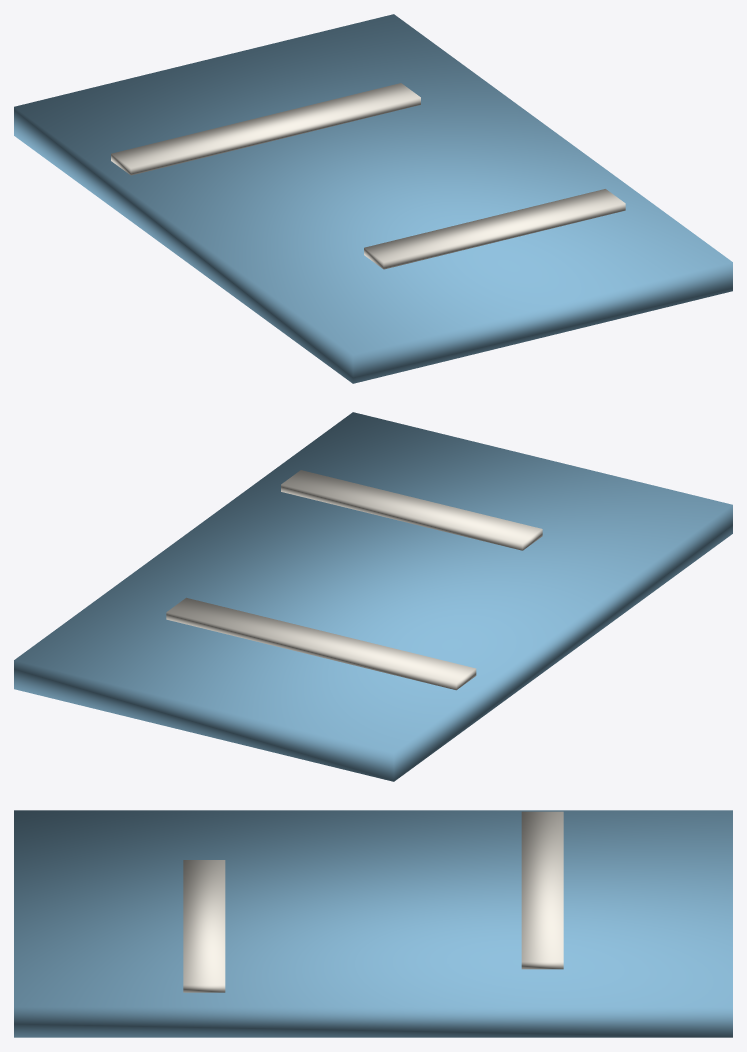
The model's file is river_bg.glb.
3 views of the same model, one above another, from view 1: azimuth 30°, elevation 25°; view 2: azimuth 150°, elevation 25°; view 3: azimuth 270°, elevation 25° (orthographic). The views are drawn at different scales.
Visible parts, largest first — view 1: water_body, ripple1, ripple2; view 2: water_body, ripple1, ripple2; view 3: water_body, ripple1, ripple2.
Boxes of the visible parts, bbox=[...] form: water_body: bbox=[14, 14, 732, 383]; ripple1: bbox=[111, 83, 420, 175]; ripple2: bbox=[364, 189, 625, 269]; water_body: bbox=[14, 412, 732, 781]; ripple1: bbox=[166, 597, 476, 690]; ripple2: bbox=[281, 470, 542, 550]; water_body: bbox=[14, 810, 732, 1037]; ripple1: bbox=[521, 811, 563, 969]; ripple2: bbox=[183, 860, 225, 992].
Bounding box in the file's own units: 0.55 × 0.05 × 0.85.
